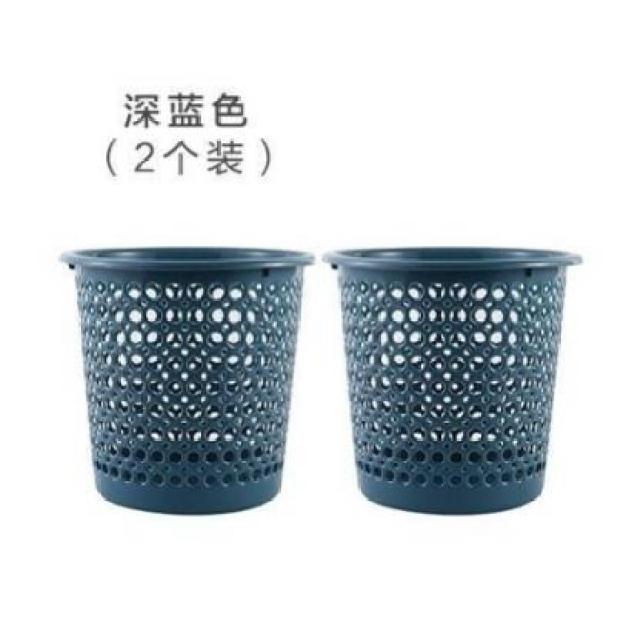dustbin: (322, 242, 586, 522), (60, 240, 317, 519)
